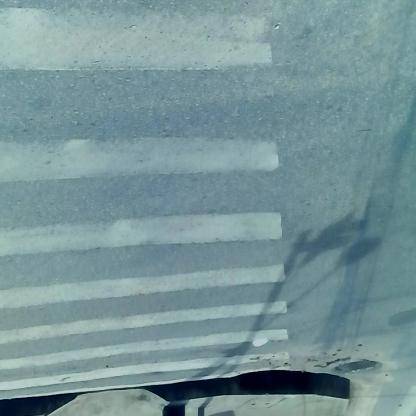crosswalk: (2, 1, 298, 364)
sidewalk: (1, 387, 362, 414)
